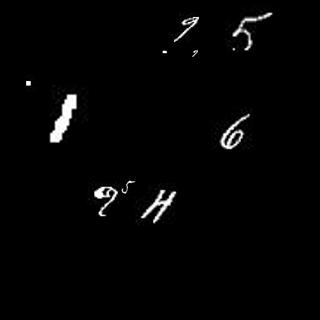dot: (20, 74, 36, 91), (158, 48, 172, 59), (228, 43, 241, 54)
five: (228, 13, 279, 55), (118, 175, 138, 197)
four: (151, 189, 174, 224)
nine: (93, 182, 116, 220), (171, 14, 200, 44), (188, 45, 204, 61)
one: (47, 93, 78, 146)
six: (218, 110, 250, 151)
